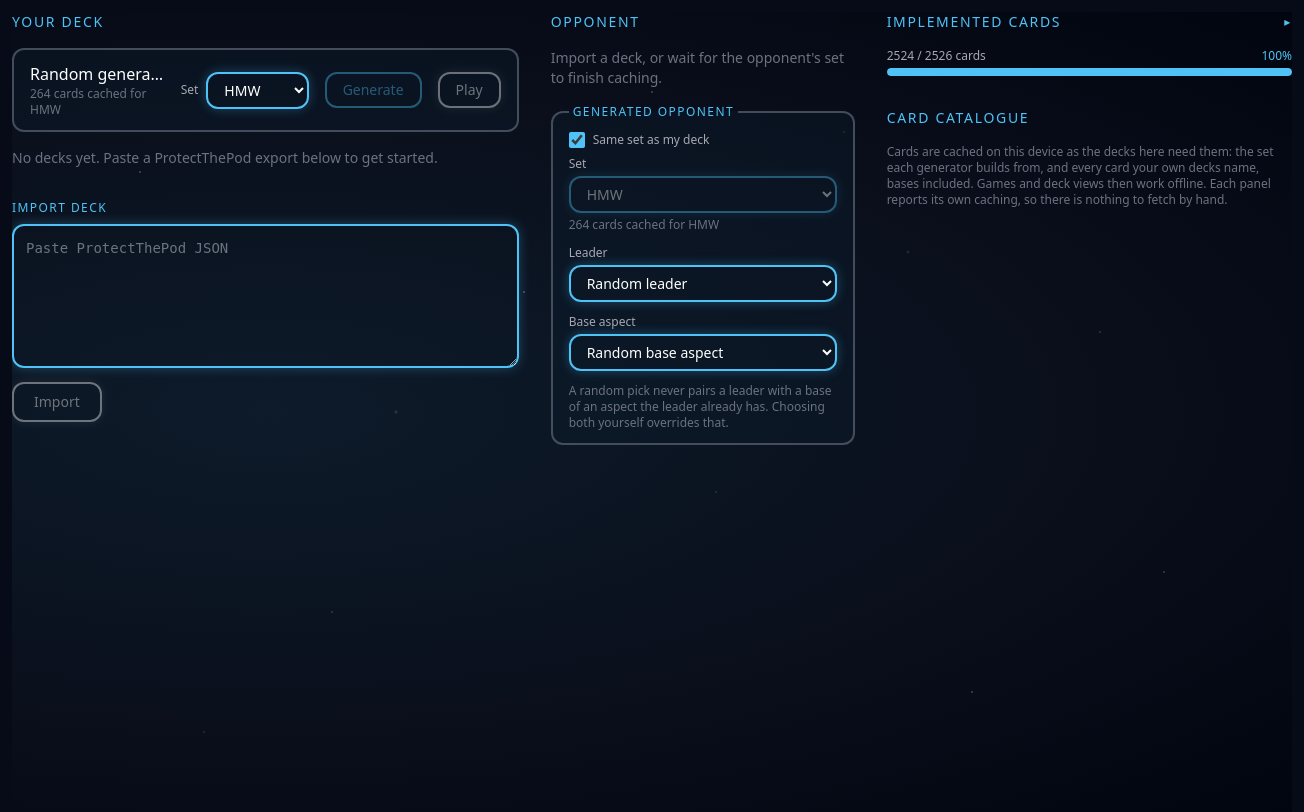
Test: DeckSelectScreen › breaks progress down per set, newest first, with a row per card type
Click the button "Implemented cards ▸": click(974, 22) [887,12,1292,32]
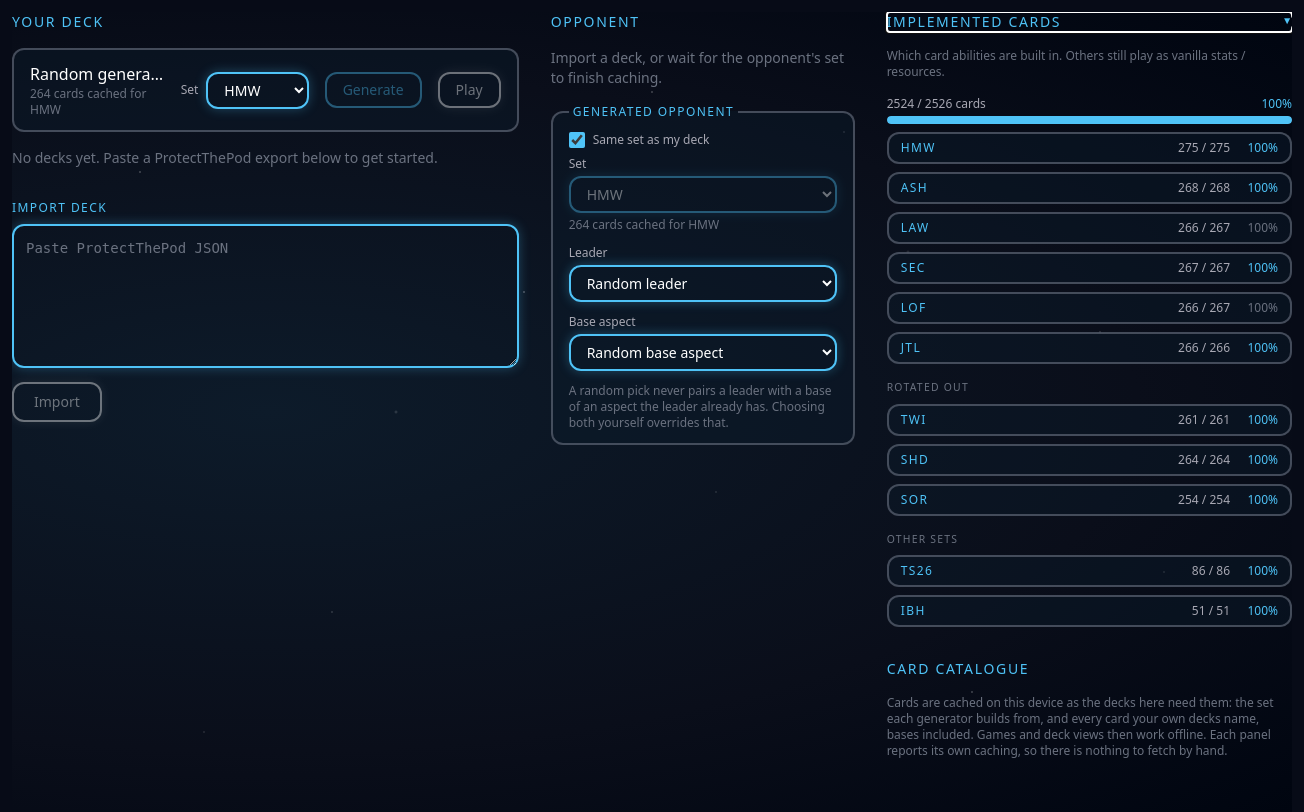
Check: the element with test id "set-group-rotation" is shown, box [887,132,1292,364]
Check: the heading "Rotated out" is shown, box [887,380,969,394]
Check: the heading "Other sets" is shown, box [887,532,958,546]
